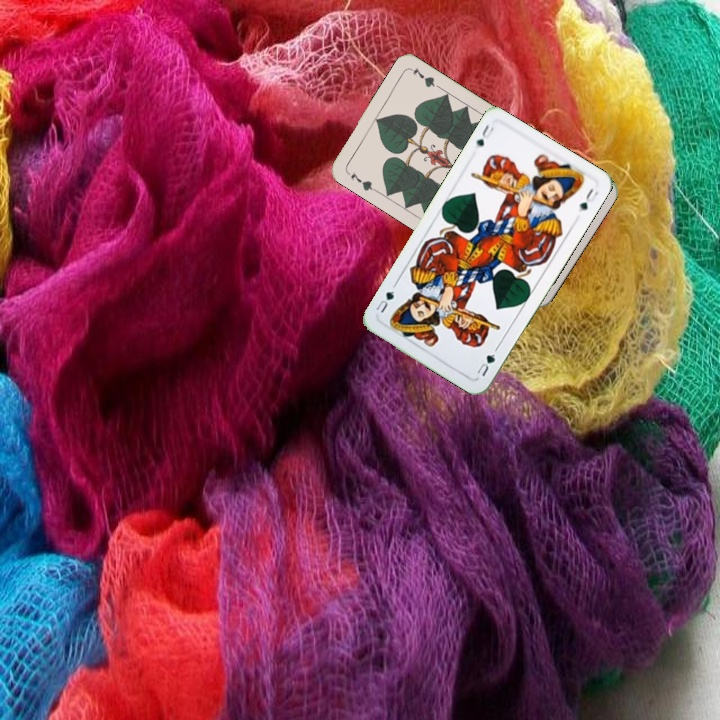G7: (347, 168, 379, 194)
GU: (471, 120, 496, 151), (473, 350, 498, 379)
